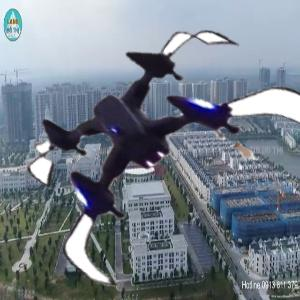drone: (5, 9, 295, 299)
